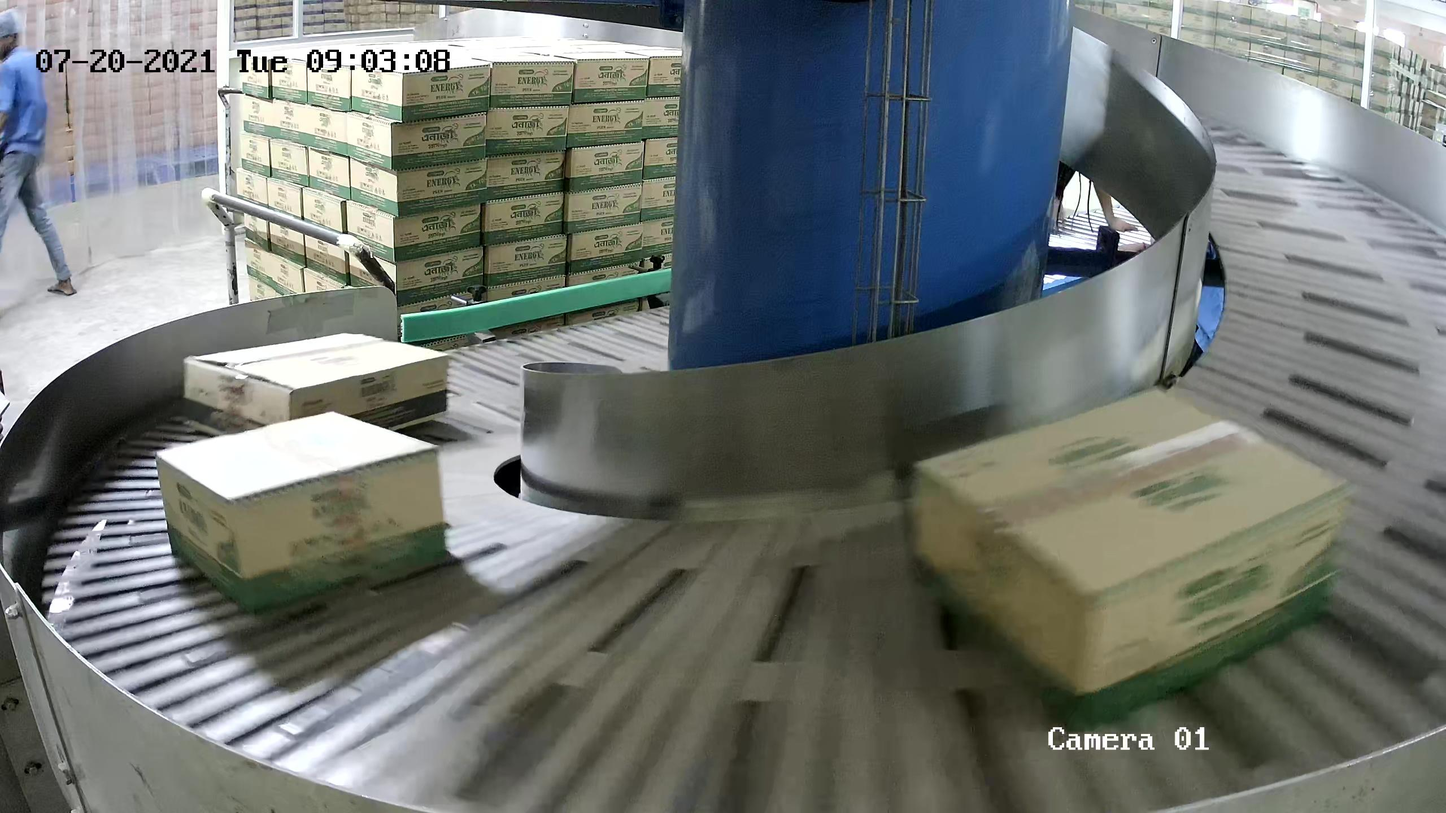Box: (911, 383, 1347, 734), (154, 410, 447, 617), (181, 332, 449, 447)
